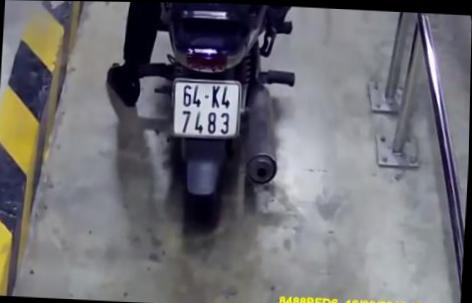LP: (171, 75, 245, 141)
